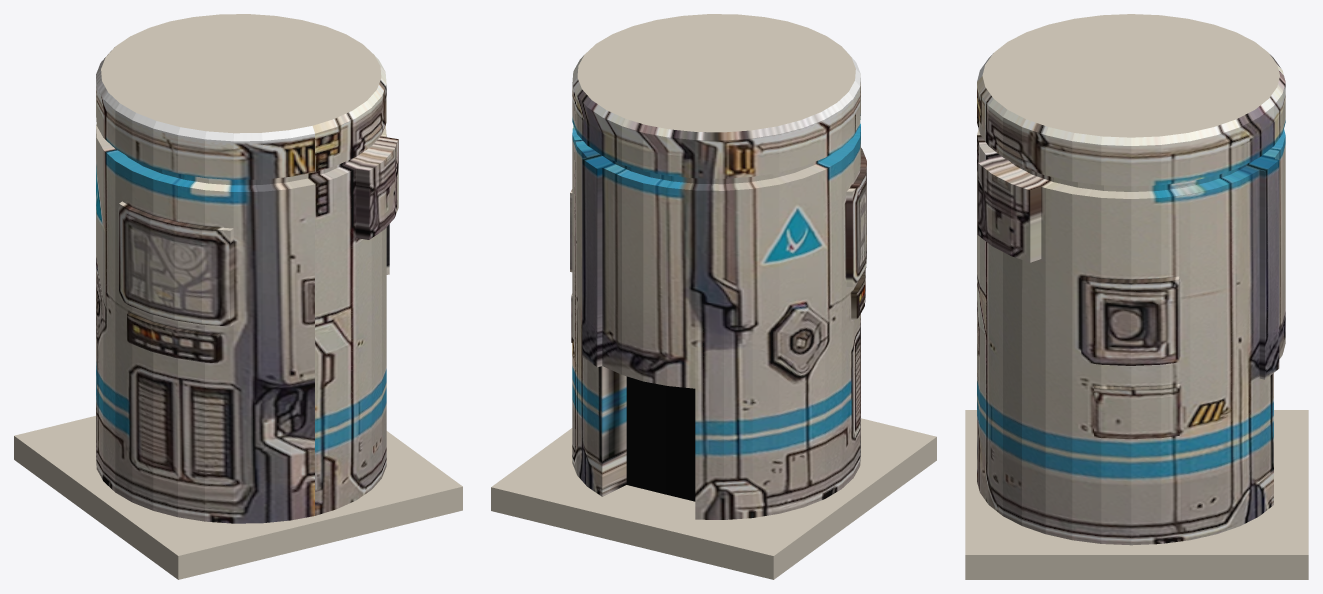
The model's file is miner.fbx.
3 renders of one model, left to right at view 1: azimuth 30°, elevation 25°; view 2: azimuth 150°, elevation 25°; view 3: azimuth 270°, elevation 25°, orthographic. The views are drawn at different scales.
Parts seen in each view (by area): view 1: Cylinder.001, Cube; view 2: Cylinder.001, Cube; view 3: Cylinder.001, Cube.
Boxes of the visible parts, <box> form: Cylinder.001: <box>96,14,398,523</box>; Cube: <box>14,416,462,579</box>; Cylinder.001: <box>570,14,866,519</box>; Cube: <box>491,418,936,579</box>; Cylinder.001: <box>977,14,1285,545</box>; Cube: <box>965,410,1308,579</box>.
Bounding box in the file's own units: 200 × 278 × 200.
Materials: 1 (1 with a texture image).
